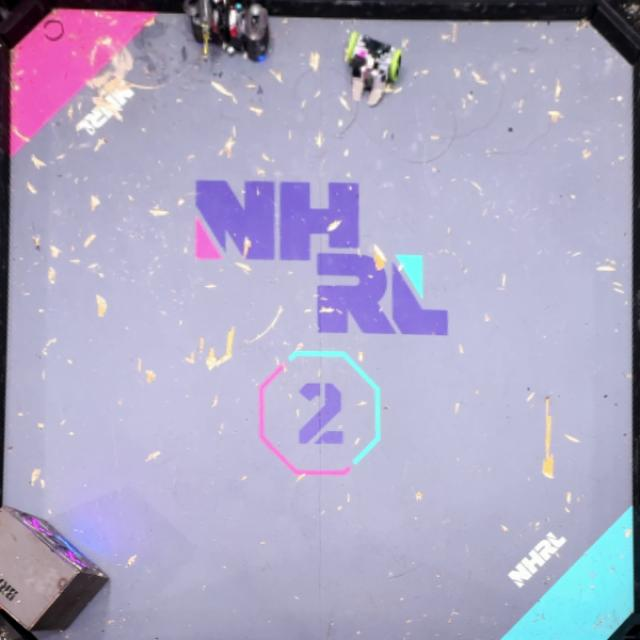housebot: (2, 505, 111, 632)
robot: (185, 0, 270, 61), (344, 31, 403, 105)
